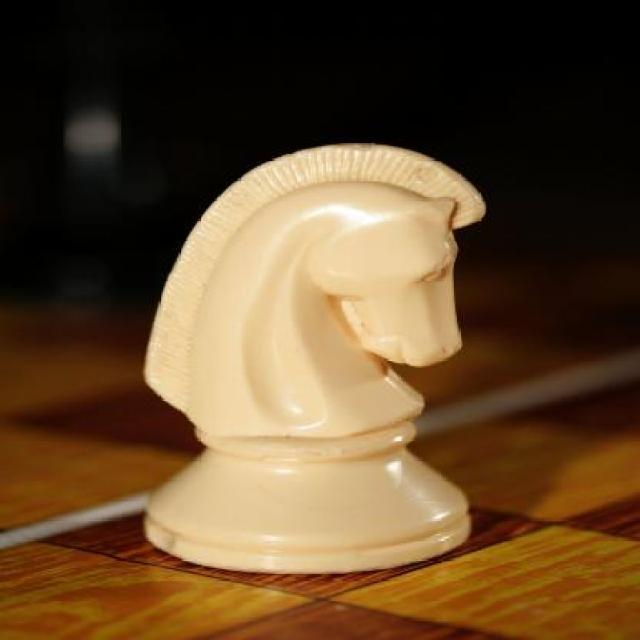white-knight: (140, 147, 488, 576)
